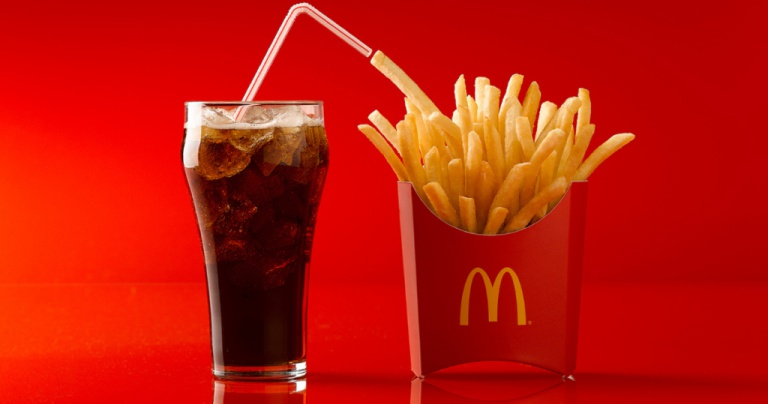mcdonalds: (451, 262, 538, 334)
